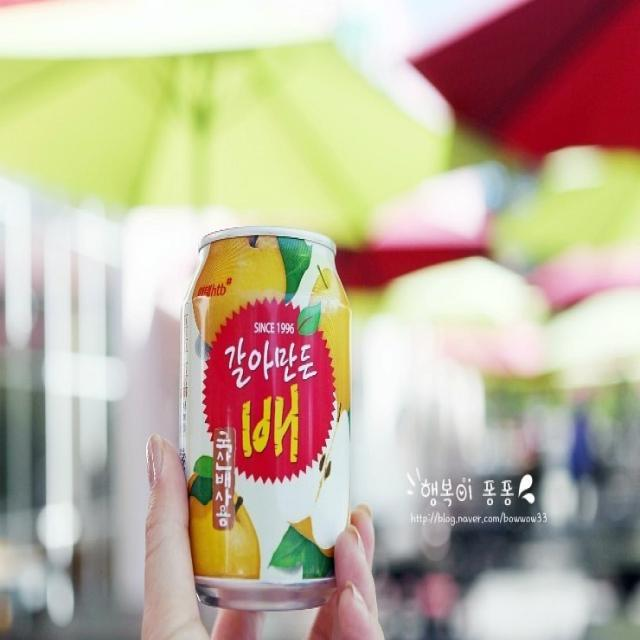Cans: (156, 212, 371, 608)
